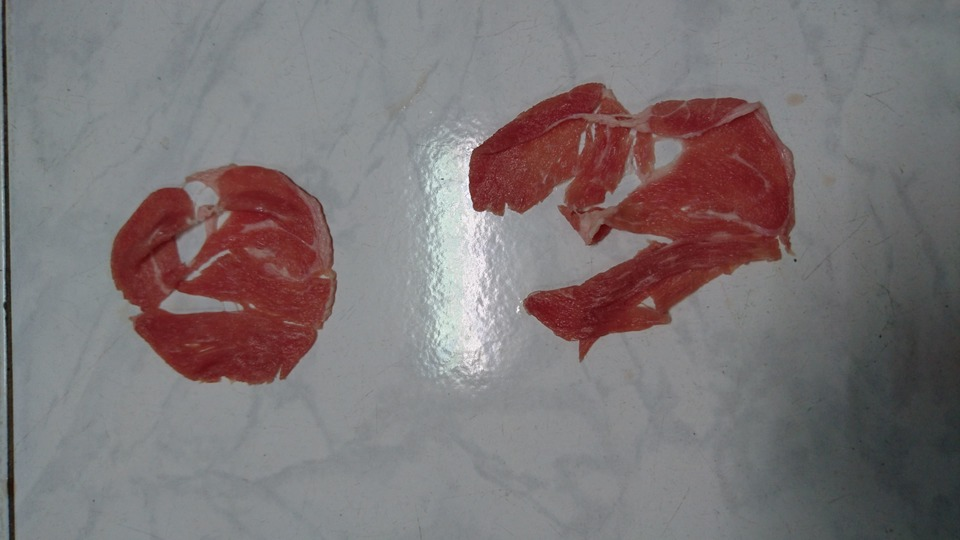restructured meat: (447, 71, 815, 365), (93, 146, 355, 390)
